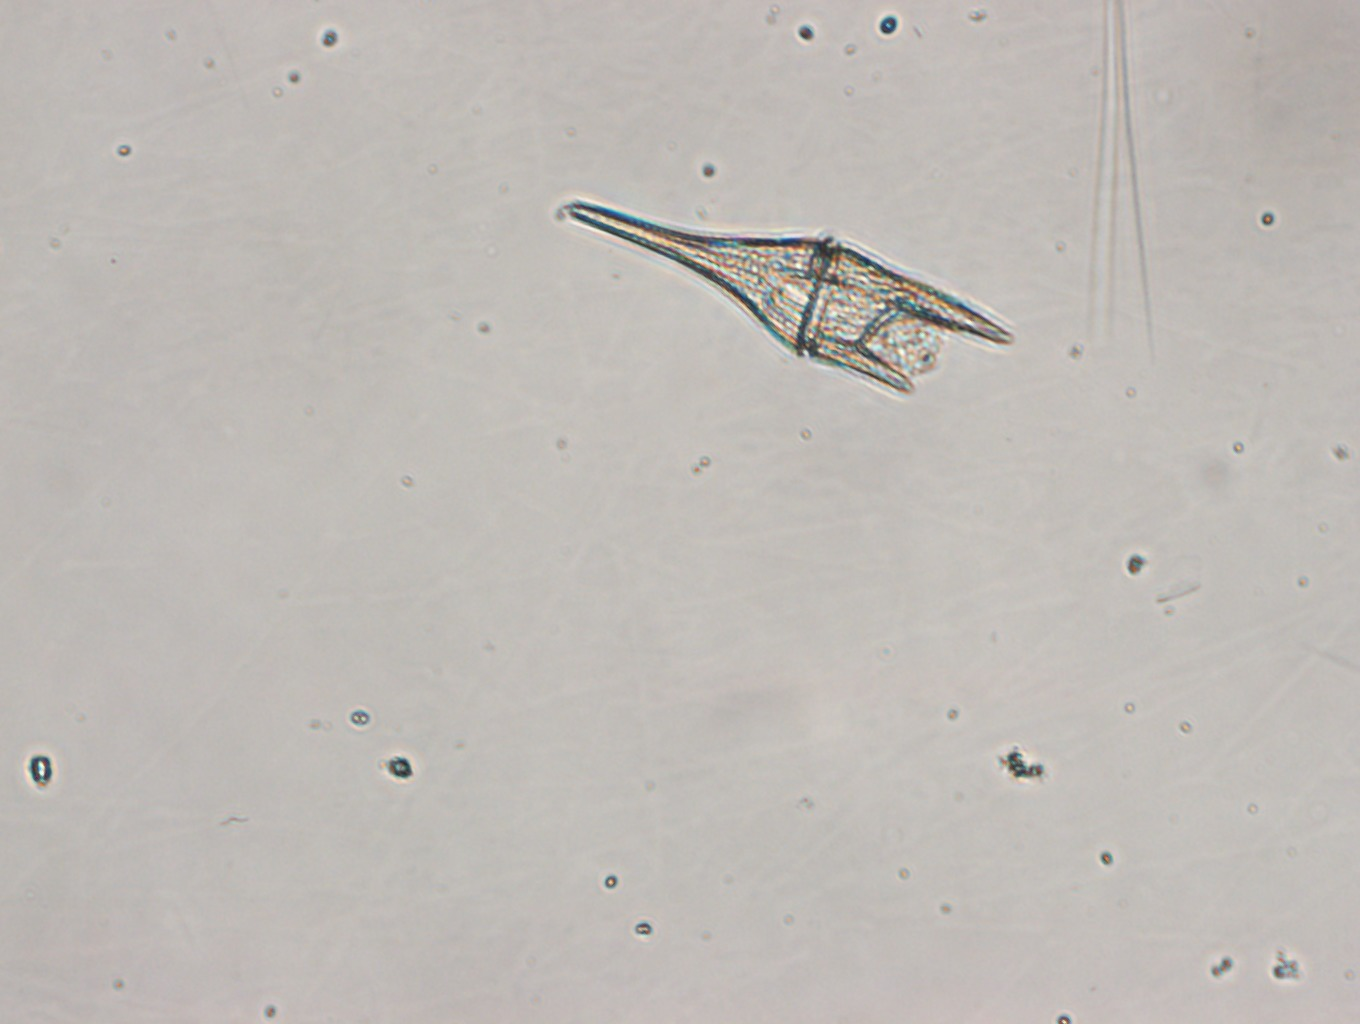ceratium furca: (561, 198, 1017, 409)
